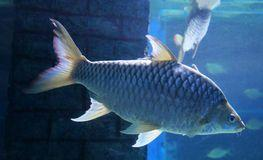Silver Barb: (26, 17, 245, 151)
